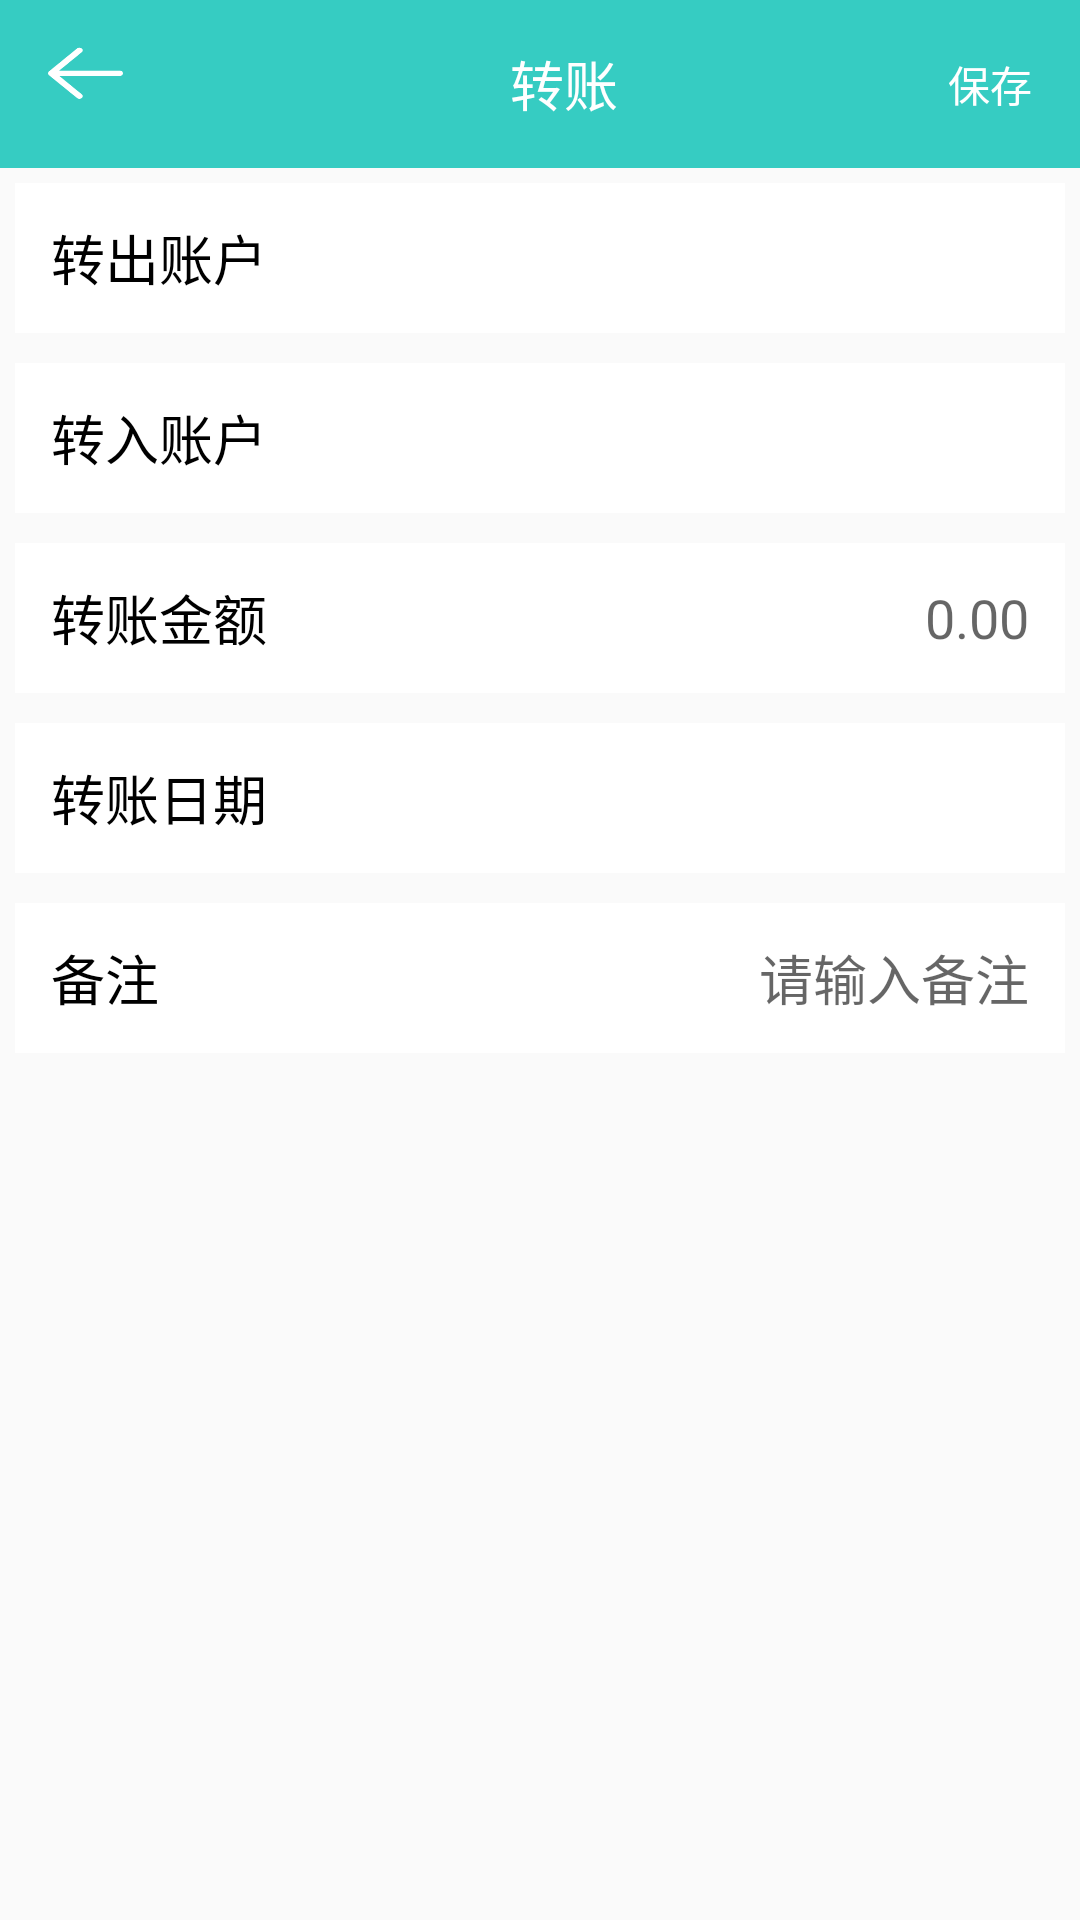

Where to tap for icons on this 1080px×1920px app screen, as point (x, y):
pre: point (85, 73)
